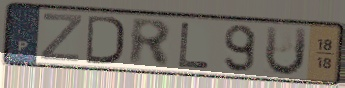9: (223, 23, 258, 74)
D: (84, 13, 126, 67)
L: (176, 21, 212, 71)
R: (128, 16, 173, 70)
U: (262, 24, 309, 78)
Z: (37, 12, 85, 64)
